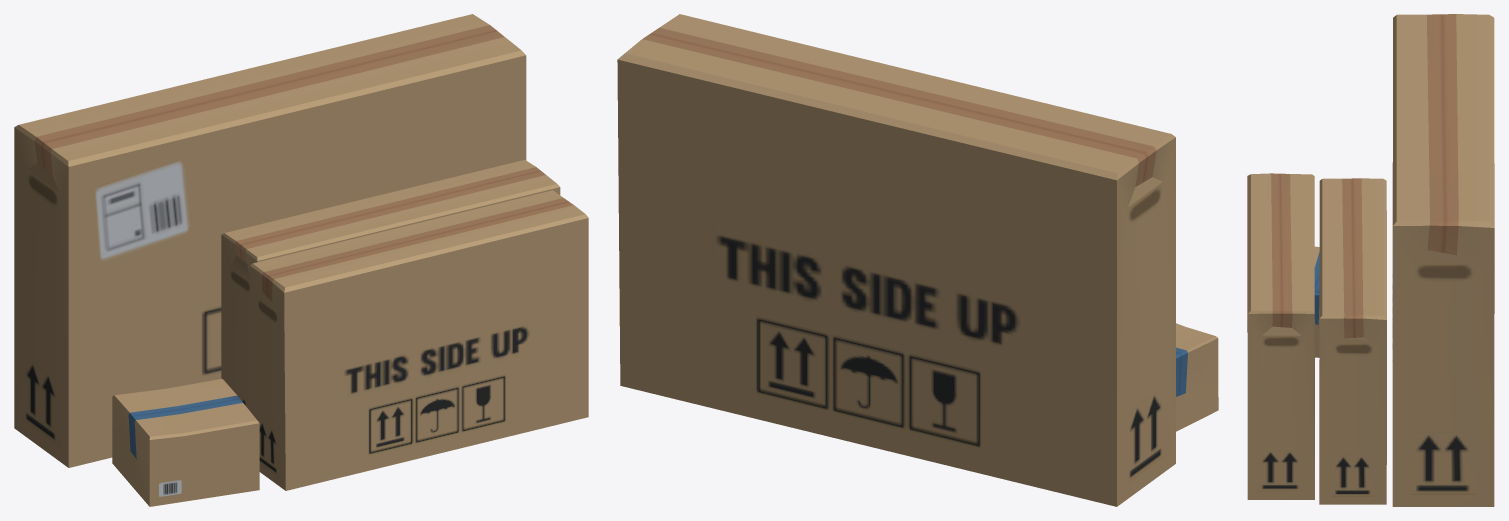
Rendered from SM_Prop_Warehouse_Boxes_Stacked_01.obj.
3 views of the same model, side by side, from view 1: azimuth 30°, elevation 25°; view 2: azimuth 150°, elevation 25°; view 3: azimuth 270°, elevation 25° (orthographic). The views are drawn at different scales.
Parts seen in each view (by area): view 1: SM_Prop_Warehouse_Boxes_Stacked_01_0; view 2: SM_Prop_Warehouse_Boxes_Stacked_01_0; view 3: SM_Prop_Warehouse_Boxes_Stacked_01_0.
Boxes of the visible parts, x1,y1,x2,y2 form: SM_Prop_Warehouse_Boxes_Stacked_01_0: (14,14,588,506); SM_Prop_Warehouse_Boxes_Stacked_01_0: (617,14,1218,506); SM_Prop_Warehouse_Boxes_Stacked_01_0: (1247,14,1494,506).
Bounding box in the file's own units: 1.69 × 1.07 × 0.8415.
Materials: 1 (1 with a texture image).
